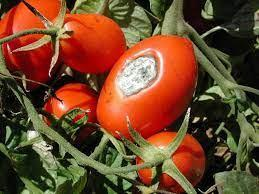tomato early blight: (97, 36, 202, 141)
